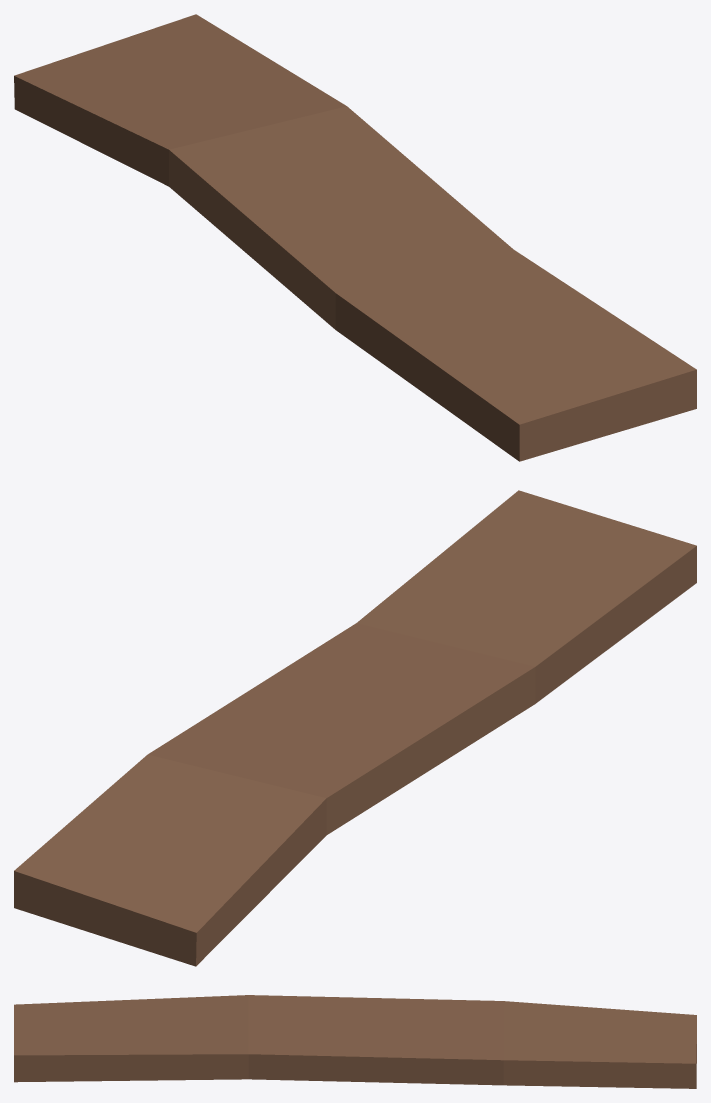
The model's file is env_prop_plank1_mesh_01_v1.glb.
3 views of the same model, one above another, from view 1: azimuth 30°, elevation 25°; view 2: azimuth 150°, elevation 25°; view 3: azimuth 270°, elevation 25° (orthographic). The views are drawn at different scales.
Parts seen in each view (by area): view 1: Plank; view 2: Plank; view 3: Plank.
Boxes of the visible parts, bbox=[...] form: Plank: bbox=[14, 14, 696, 461]; Plank: bbox=[14, 490, 696, 966]; Plank: bbox=[14, 995, 696, 1088].
Bounding box in the file's own units: 0.6611 × 0.1998 × 2.89.
